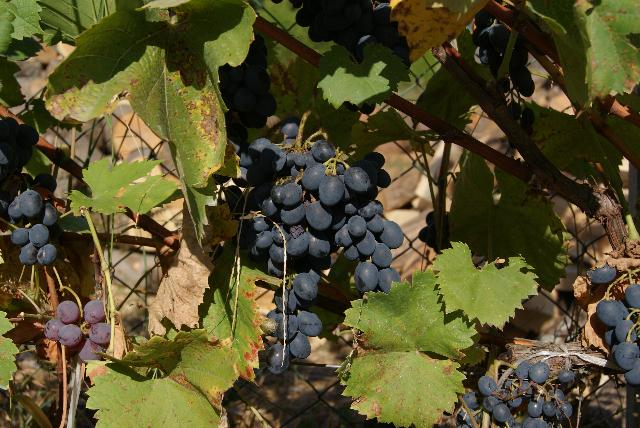grapes: (225, 139, 402, 372), (478, 360, 570, 428)
